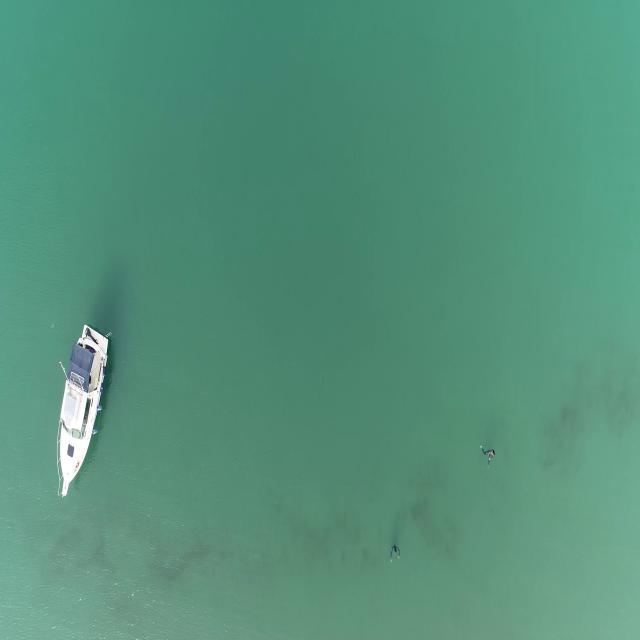boat: (51, 323, 112, 498)
person: (480, 444, 494, 466), (388, 543, 401, 566)
